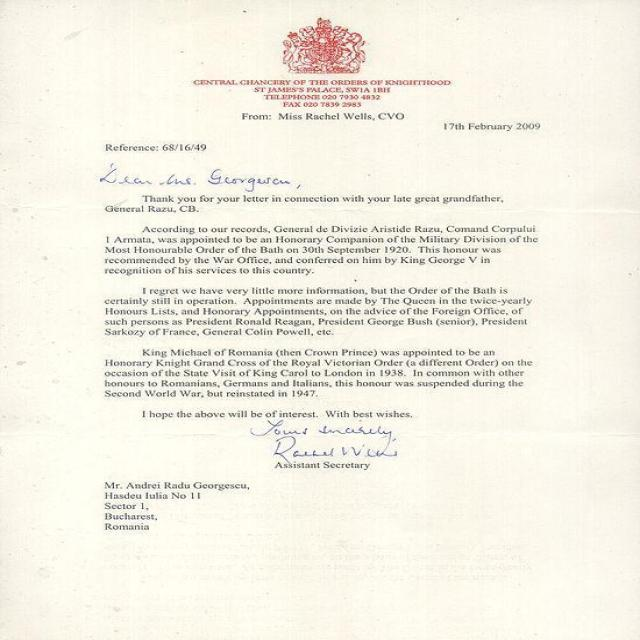signature: (272, 434, 398, 460)
